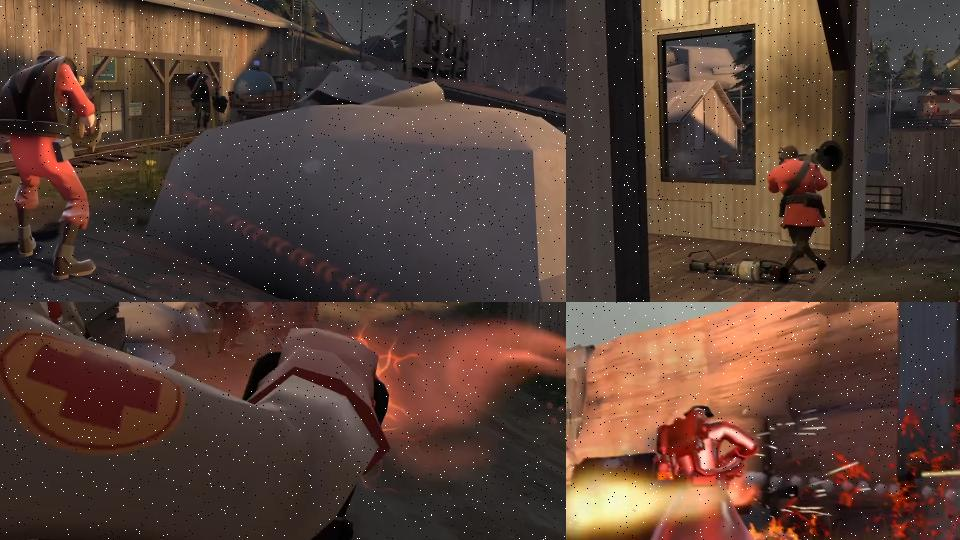Enemy: (0, 302, 388, 540), (0, 47, 103, 281), (639, 404, 759, 540), (767, 139, 845, 283), (191, 302, 285, 355), (185, 64, 229, 129), (928, 100, 941, 128), (399, 302, 416, 311)
